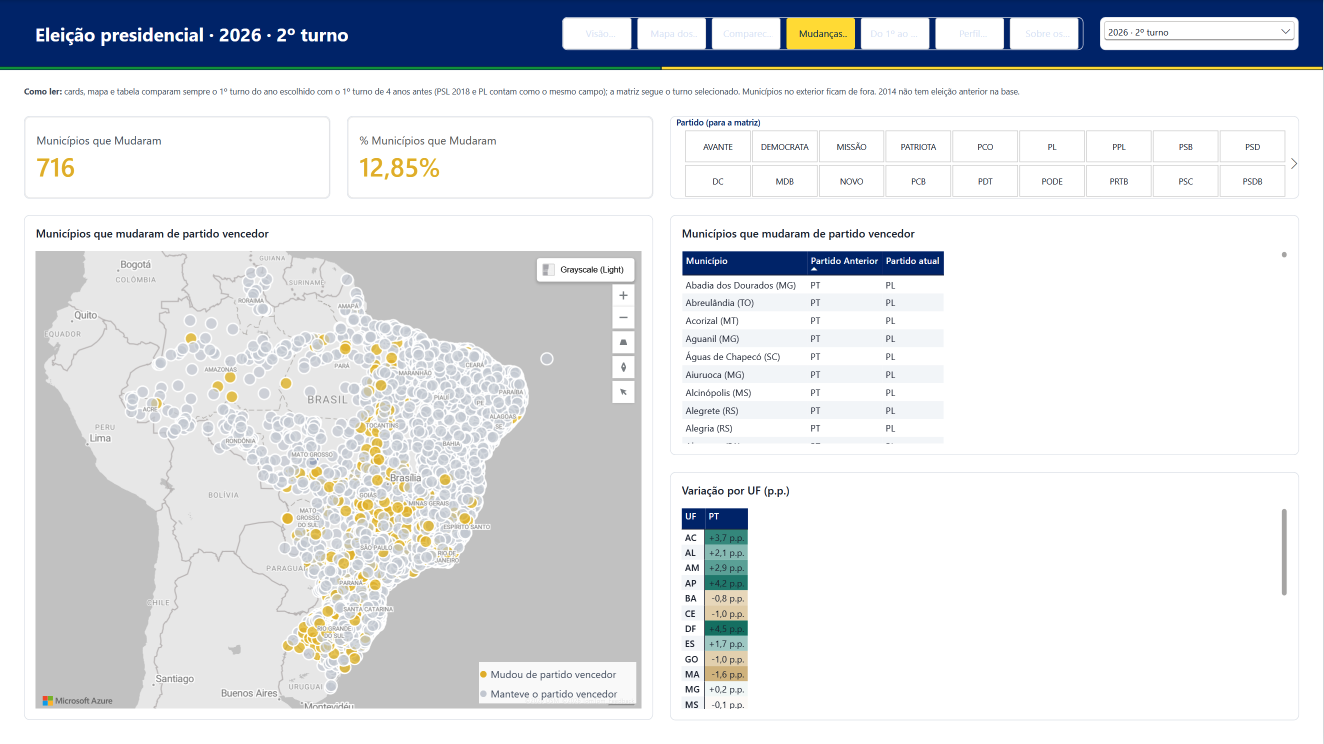

The page's visual inventory and layout, read from the dashboard file:
{"tool":"powerbi","page":{"name":"Mudanças entre eleições","canvas":[1920,1080],"ordinal":3},"visuals":[{"type":"shape","box":[0,0,1920,96],"z":0},{"type":"shape","box":[0,96,960,6],"z":1000},{"type":"shape","box":[960,96,960,6],"z":2000},{"type":"cardVisual","fields":{"Data":["_Medidas.Título Eleição"]},"box":[36,24,756,48],"z":3000},{"type":"pageNavigator","box":[816,24,756,48],"z":4000},{"type":"slicer","fields":{"Values":["dTurno.rotulo_turno"]},"box":[1596,24,288,48],"z":5000},{"type":"cardVisual","fields":{"Data":["_Medidas.Municípios que Mudaram"]},"box":[36,168,444,120],"z":6000},{"type":"cardVisual","fields":{"Data":["_Medidas.% Municípios que Mudaram"]},"box":[504,168,444,120],"z":7000},{"type":"azureMap","title":"Municípios que mudaram de partido vencedor","fields":{"Category":["dMunicipio.local_mapa"]},"box":[36,312,912,732],"z":8000},{"type":"textbox","box":[696,960,228,60],"z":9000},{"type":"tableEx","title":"Municípios que mudaram de partido vencedor","fields":{"Values":["dMunicipio.municipio_uf","_Medidas.Partido Vencedor 1º Turno Anterior","_Medidas.Partido Vencedor 1º Turno"]},"box":[972,312,912,348],"z":10000},{"type":"pivotTable","title":"Variação por UF (p.p.)","fields":{"Columns":["dCandidato.partido_atual"],"Rows":["dMunicipio.sg_uf"],"Values":["_Medidas.Variação p.p."]},"box":[972,684,912,360],"z":11000},{"type":"slicer","fields":{"Values":["dCandidato.partido_atual"]},"box":[972,168,912,120],"z":12000},{"type":"textbox","box":[36,120,1848,24],"z":13000}]}

Visuals, with their boxes in screenshot pixels (x1, y1, x2, y2), scaled from the page's 1920x1080 canvas onto the 1324x744 screenshot:
shape: box(0, 0, 1323, 66)
shape: box(0, 66, 662, 70)
shape: box(662, 66, 1323, 70)
cardVisual - _Medidas.Título Eleição: box(25, 17, 546, 50)
pageNavigator: box(563, 17, 1084, 50)
slicer - dTurno.rotulo_turno: box(1101, 17, 1299, 50)
cardVisual - _Medidas.Municípios que Mudaram: box(25, 116, 331, 198)
cardVisual - _Medidas.% Municípios que Mudaram: box(348, 116, 654, 198)
"Municípios que mudaram de partido vencedor" azureMap: box(25, 215, 654, 719)
textbox: box(480, 661, 637, 703)
"Municípios que mudaram de partido vencedor" tableEx: box(670, 215, 1299, 455)
"Variação por UF (p.p.)" pivotTable: box(670, 471, 1299, 719)
slicer - dCandidato.partido_atual: box(670, 116, 1299, 198)
textbox: box(25, 83, 1299, 99)
